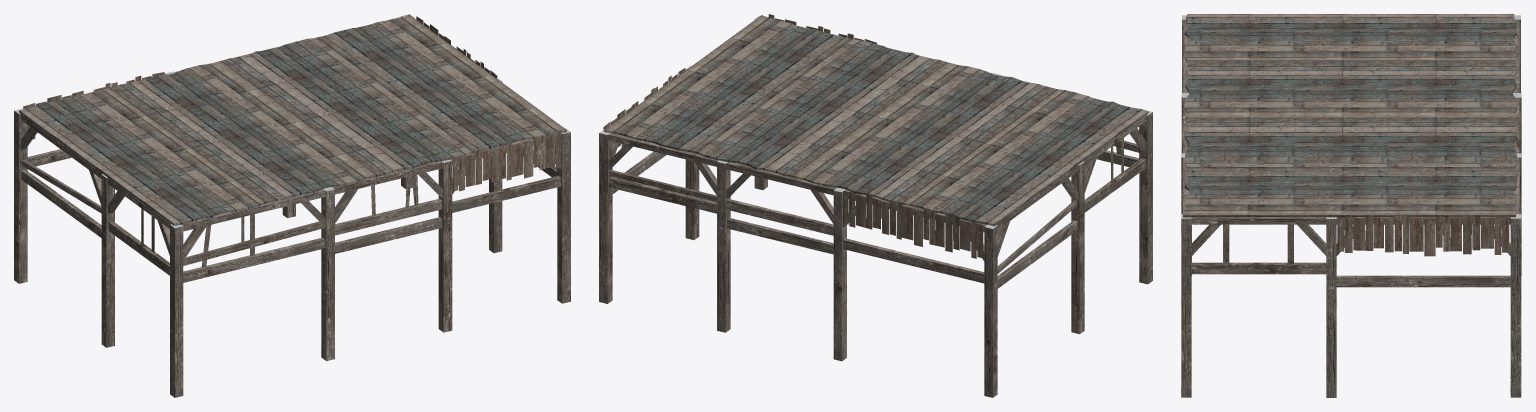
The model's file is Platform3_LOD1.fbx.
3 renders of one model, left to right at view 1: azimuth 30°, elevation 25°; view 2: azimuth 150°, elevation 25°; view 3: azimuth 270°, elevation 25°, orthographic. The views are drawn at different scales.
Parts seen in each view (by area): view 1: polySurface3445; view 2: polySurface3445; view 3: polySurface3445.
Part boxes in pixels (x1,y1,x2,y2): polySurface3445: (14,14,570,397); polySurface3445: (599,14,1152,397); polySurface3445: (1181,14,1521,397).
Size of the model in its own units: 13.9 by 5.82 by 9.79.
